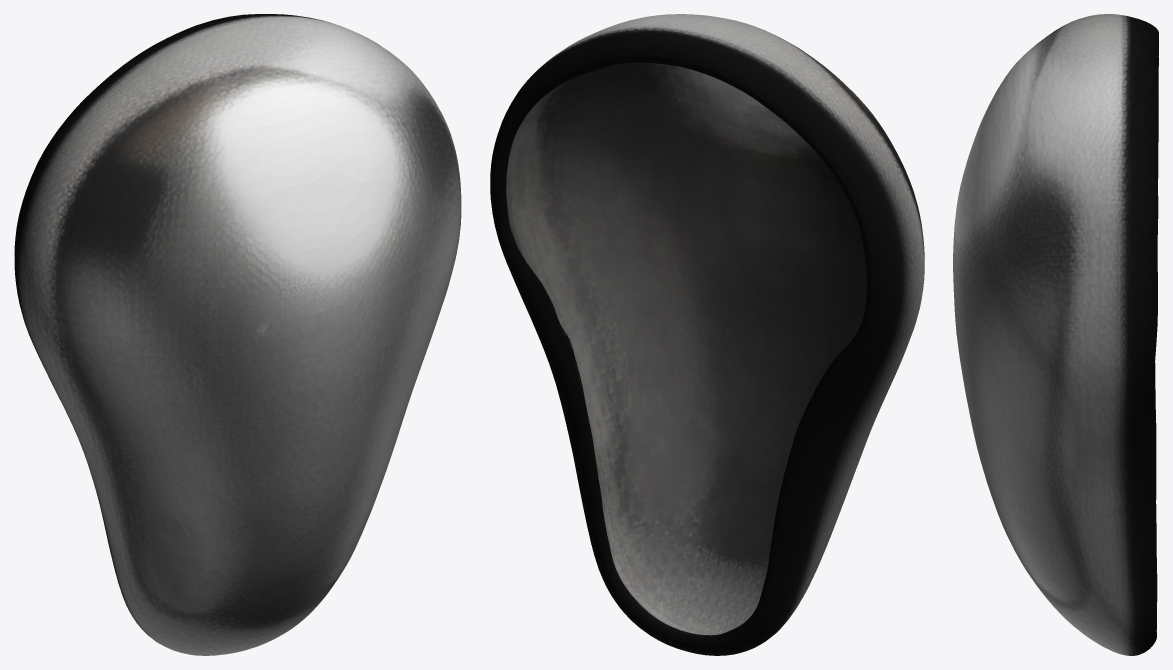
File: mercurio.fbx
3 renders of one model, left to right at view 1: azimuth 30°, elevation 25°; view 2: azimuth 150°, elevation 25°; view 3: azimuth 270°, elevation 25°, orthographic. The views are drawn at different scales.
Visible parts, largest first — view 1: geometry_0.001; view 2: geometry_0.001; view 3: geometry_0.001.
Boxes of the visible parts, x1,y1,x2,y2 form: geometry_0.001: [14, 14, 461, 655]; geometry_0.001: [490, 14, 924, 655]; geometry_0.001: [953, 14, 1158, 655].
Size of the model in its own units: 0.3052 by 0.4328 by 0.1336.
Materials: 1 (1 with a texture image).
